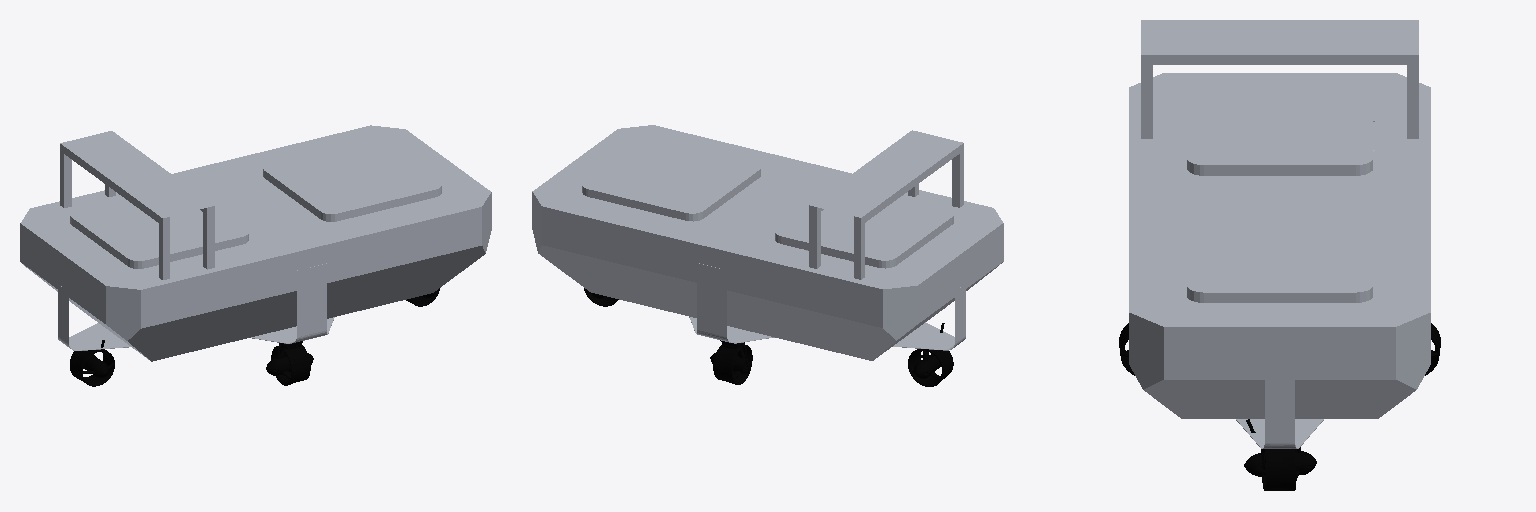
URDF robot description (hu501urdf):
<?xml version="1.0" encoding="utf-8"?>
<!-- This URDF was automatically created by SolidWorks to URDF Exporter! Originally created by Stephen Brawner (brawner@gmail.com) 
     Commit Version: 1.6.0-4-g7f85cfe  Build Version: 1.6.7995.38578
     For more information, please see http://wiki.ros.org/sw_urdf_exporter -->
<robot
  name="hu501urdf">
  <link
    name="base_link">
    <inertial>
      <origin
        xyz="0 0 -0.16302"
        rpy="0 0 0" />
      <mass
        value="22.584" />
      <inertia
        ixx="0.568866"
        ixy="-3.39E-06"
        ixz="-0.0625"
        iyy="1.81792"
        iyz="-5.51E-06"
        izz="2.07173" />
    </inertial>
    <visual>
      <origin
        xyz="-0.29592 -1.03178 -0.05518"
        rpy="0 0 3.14159" />
      <geometry>
        <mesh
          filename="package://hu501urdf/meshes/base_link.STL" />
      </geometry>
      <material
        name="hu501_hull">
        <color
          rgba="0.72 0.74 0.78 1" />
      </material>
    </visual>
    <collision>
      <origin
        xyz="-0.29592 -1.03178 -0.05518"
        rpy="0 0 3.14159" />
      <geometry>
        <mesh
          filename="package://hu501urdf/meshes/base_link.STL" />
      </geometry>
    </collision>
  </link>
  <link
    name="thruster1_Link">
    <inertial>
      <origin
        xyz="-1.3592E-07 0.0053084 -0.028391"
        rpy="0 0 0" />
      <mass
        value="0.20168" />
      <inertia
        ixx="0.00020552"
        ixy="-3.7292E-10"
        ixz="-8.5462E-10"
        iyy="0.00015966"
        iyz="-7.6597E-06"
        izz="0.00025129" />
    </inertial>
    <visual>
      <origin
        xyz="0 0 0"
        rpy="0 0 0" />
      <geometry>
        <mesh
          filename="package://hu501urdf/meshes/thruster1_Link.STL" />
      </geometry>
      <material
        name="hu501_thruster_1">
        <color
          rgba="0.05 0.05 0.05 1" />
      </material>
    </visual>
    <collision>
      <origin
        xyz="0 0 0"
        rpy="0 0 0" />
      <geometry>
        <mesh
          filename="package://hu501urdf/meshes/thruster1_Link.STL" />
      </geometry>
    </collision>
  </link>
  <joint
    name="joint1_turuster1"
    type="continuous">
    <origin
      xyz="-0.01 0.23 -0.2597"
      rpy="1.5708 0 1.570793" />
    <parent
      link="base_link" />
    <child
      link="thruster1_Link" />
    <axis
      xyz="0 0 1" />
    <dynamics
      damping="0.01"
      friction="0.0" />
    <limit
      effort="40"
      velocity="15" />
  </joint>
  <link
    name="thruster2_Link">
    <inertial>
      <origin
        xyz="-1.3745E-07 0.0051293 -0.030269"
        rpy="0 0 0" />
      <mass
        value="0.20953" />
      <inertia
        ixx="0.00020658"
        ixy="-4.2617E-10"
        ixz="-8.5048E-10"
        iyy="0.00016074"
        iyz="-7.6696E-06"
        izz="0.00025296" />
    </inertial>
    <visual>
      <origin
        xyz="0 0 0"
        rpy="0 0 0" />
      <geometry>
        <mesh
          filename="package://hu501urdf/meshes/thruster2_Link.STL" />
      </geometry>
      <material
        name="hu501_thruster_2">
        <color
          rgba="0.05 0.05 0.05 1" />
      </material>
    </visual>
    <collision>
      <origin
        xyz="0 0 0"
        rpy="0 0 0" />
      <geometry>
        <mesh
          filename="package://hu501urdf/meshes/thruster2_Link.STL" />
      </geometry>
    </collision>
  </link>
  <joint
    name="joint2_thruster2"
    type="continuous">
    <origin
      xyz="-0.01 -0.23 -0.2597"
      rpy="1.5708 0 1.570793" />
    <parent
      link="base_link" />
    <child
      link="thruster2_Link" />
    <axis
      xyz="0 0 1" />
    <dynamics
      damping="0.01"
      friction="0.0" />
    <limit
      effort="40"
      velocity="15" />
  </joint>
  <link
    name="thruster3_Link">
    <inertial>
      <origin
        xyz="9.3955E-06 -0.0051236 0.030236"
        rpy="0 0 0" />
      <mass
        value="0.20976" />
      <inertia
        ixx="0.00020659"
        ixy="2.2386E-10"
        ixz="8.5055E-10"
        iyy="0.00016074"
        iyz="-7.6692E-06"
        izz="0.00025296" />
    </inertial>
    <visual>
      <origin
        xyz="0 0 0"
        rpy="0 0 0" />
      <geometry>
        <mesh
          filename="package://hu501urdf/meshes/thruster3_Link.STL" />
      </geometry>
      <material
        name="hu501_thruster_3">
        <color
          rgba="0.05 0.05 0.05 1" />
      </material>
    </visual>
    <collision>
      <origin
        xyz="0 0 0"
        rpy="0 0 0" />
      <geometry>
        <mesh
          filename="package://hu501urdf/meshes/thruster3_Link.STL" />
      </geometry>
    </collision>
  </link>
  <joint
    name="joint3_thruster3"
    type="continuous">
    <origin
      xyz="0.44 -0.02998 -0.25915"
      rpy="-1.5697 -0.046487 0.098693" />
    <parent
      link="base_link" />
    <child
      link="thruster3_Link" />
    <axis
      xyz="0 0 -1" />
    <dynamics
      damping="0.01"
      friction="0.0" />
    <limit
      effort="40"
      velocity="15" />
  </joint>
  <link
    name="thruster4_Link">
    <inertial>
      <origin
        xyz="-1.3454E-07 -0.0051178 0.030204"
        rpy="0 0 0" />
      <mass
        value="0.21" />
      <inertia
        ixx="0.00020659"
        ixy="5.5639E-10"
        ixz="8.7177E-10"
        iyy="0.00016075"
        iyz="-7.6696E-06"
        izz="0.00025296" />
    </inertial>
    <visual>
      <origin
        xyz="0 0 0"
        rpy="0 0 0" />
      <geometry>
        <mesh
          filename="package://hu501urdf/meshes/thruster4_Link.STL" />
      </geometry>
      <material
        name="hu501_thruster_4">
        <color
          rgba="0.05 0.05 0.05 1" />
      </material>
    </visual>
    <collision>
      <origin
        xyz="0 0 0"
        rpy="0 0 0" />
      <geometry>
        <mesh
          filename="package://hu501urdf/meshes/thruster4_Link.STL" />
      </geometry>
    </collision>
  </link>
  <joint
    name="joint4_thruster4"
    type="continuous">
    <origin
      xyz="-0.44 -0.02778 -0.26142"
      rpy="-1.5596 -0.026539 0.012393" />
    <parent
      link="base_link" />
    <child
      link="thruster4_Link" />
    <axis
      xyz="0 0 -1" />
    <dynamics
      damping="0.01"
      friction="0.0" />
    <limit
      effort="40"
      velocity="15" />
  </joint>
  <!-- ================= VRX 水面物理 ================= -->
  <!-- 浮力：两根虚拟浮筒近似船底（船体 1.04m x 0.52m，总质量约 23.4kg）
       每个插件 = 一根浮筒：总浮力 = 圆截面浸水面积 x hull_length x rho x g
       采样点放在船底 z=-0.2：平衡时每筒浸深约 6.9cm，即吃水约 7cm（实船标定值） -->
  <gazebo>
    <plugin filename="libSurface.so" name="vrx::Surface">
      <link_name>base_link</link_name>
      <hull_length>1.04</hull_length>
      <hull_radius>0.13</hull_radius>
      <fluid_level>0</fluid_level>
      <points>
        <point>0.4 0.13 -0.2</point>
        <point>0.0 0.13 -0.2</point>
        <point>-0.4 0.13 -0.2</point>
      </points>
      <wavefield>
        <topic>/vrx/wavefield/parameters</topic>
      </wavefield>
    </plugin>

    <plugin filename="libSurface.so" name="vrx::Surface">
      <link_name>base_link</link_name>
      <hull_length>1.04</hull_length>
      <hull_radius>0.13</hull_radius>
      <fluid_level>0</fluid_level>
      <points>
        <point>0.4 -0.13 -0.2</point>
        <point>0.0 -0.13 -0.2</point>
        <point>-0.4 -0.13 -0.2</point>
      </points>
      <wavefield>
        <topic>/vrx/wavefield/parameters</topic>
      </wavefield>
    </plugin>

    <!-- 水动力阻尼（初值按 23kg 小船相对 WAM-V 缩小，需后续微调） -->
    <plugin filename="libSimpleHydrodynamics.so" name="vrx::SimpleHydrodynamics">
      <link_name>base_link</link_name>
      <xDotU>0.0</xDotU>
      <yDotV>0.0</yDotV>
      <nDotR>0.0</nDotR>
      <xU>10.0</xU>
      <xUU>15.0</xUU>
      <yV>10.0</yV>
      <yVV>10.0</yVV>
      <zW>50.0</zW>
      <kP>30.0</kP>
      <kPP>60.0</kPP>
      <mQ>30.0</mQ>
      <mQQ>60.0</mQQ>
      <nR>40.0</nR>
      <nRR>40.0</nRR>
    </plugin>
  </gazebo>

  <!-- ================= 推进器 ================= -->
  <!-- t1/t2：主推（前后），正推力 = +x 前进
       t3/t4：侧推（左右），正推力 = -y（向右舷），t3 在船尾 t4 在船首 -->
  <gazebo>
    <plugin filename="gz-sim-thruster-system" name="gz::sim::systems::Thruster">
      <joint_name>joint1_turuster1</joint_name>
      <thrust_coefficient>0.004422</thrust_coefficient>
      <fluid_density>1000</fluid_density>
      <propeller_diameter>0.06</propeller_diameter>
      <velocity_control>true</velocity_control>
      <max_thrust_cmd>40</max_thrust_cmd>
      <namespace>wamv</namespace>
      <topic>thrusters/t1/thrust</topic>
      <name>t1</name>
    </plugin>

    <plugin filename="gz-sim-thruster-system" name="gz::sim::systems::Thruster">
      <joint_name>joint2_thruster2</joint_name>
      <thrust_coefficient>0.004422</thrust_coefficient>
      <fluid_density>1000</fluid_density>
      <propeller_diameter>0.06</propeller_diameter>
      <velocity_control>true</velocity_control>
      <max_thrust_cmd>40</max_thrust_cmd>
      <namespace>wamv</namespace>
      <topic>thrusters/t2/thrust</topic>
      <name>t2</name>
    </plugin>

    <plugin filename="gz-sim-thruster-system" name="gz::sim::systems::Thruster">
      <joint_name>joint3_thruster3</joint_name>
      <thrust_coefficient>0.004422</thrust_coefficient>
      <fluid_density>1000</fluid_density>
      <propeller_diameter>0.06</propeller_diameter>
      <velocity_control>true</velocity_control>
      <max_thrust_cmd>40</max_thrust_cmd>
      <namespace>wamv</namespace>
      <topic>thrusters/t3/thrust</topic>
      <name>t3</name>
    </plugin>

    <plugin filename="gz-sim-thruster-system" name="gz::sim::systems::Thruster">
      <joint_name>joint4_thruster4</joint_name>
      <thrust_coefficient>0.004422</thrust_coefficient>
      <fluid_density>1000</fluid_density>
      <propeller_diameter>0.06</propeller_diameter>
      <velocity_control>true</velocity_control>
      <max_thrust_cmd>40</max_thrust_cmd>
      <namespace>wamv</namespace>
      <topic>thrusters/t4/thrust</topic>
      <name>t4</name>
    </plugin>
  </gazebo>

  <!-- ================= 位置/航向真值 ================= -->
  <gazebo>
    <plugin filename="gz-sim-odometry-publisher-system"
            name="gz::sim::systems::OdometryPublisher">
      <dimensions>3</dimensions>
      <odom_publish_frequency>10.0</odom_publish_frequency>
      <odom_frame>map</odom_frame>
      <robot_base_frame>base_link</robot_base_frame>
    </plugin>
  </gazebo>

  <!-- ================= 位姿/关节状态发布 ================= -->
  <gazebo>
    <plugin filename="gz-sim-pose-publisher-system"
            name="gz::sim::systems::PosePublisher">
      <publish_link_pose>true</publish_link_pose>
      <publish_sensor_pose>true</publish_sensor_pose>
      <publish_collision_pose>false</publish_collision_pose>
      <publish_visual_pose>false</publish_visual_pose>
      <publish_nested_model_pose>false</publish_nested_model_pose>
      <publish_model_pose>true</publish_model_pose>
      <use_pose_vector_msg>true</use_pose_vector_msg>
      <static_publisher>false</static_publisher>
      <static_update_frequency>1</static_update_frequency>
    </plugin>

    <plugin filename="gz-sim-joint-state-publisher-system"
            name="gz::sim::systems::JointStatePublisher">
    </plugin>
  </gazebo>

  <!-- ================= 材质 ================= -->
  <!-- 船体（含盖子）：铝合金（金属灰，高金属度低粗糙度） -->
  <gazebo reference="base_link">
    <visual>
      <material>
        <diffuse>0.72 0.74 0.78 1</diffuse>
        <specular>0.9 0.9 0.9 1</specular>
        <pbr>
          <metal>
            <metalness>0.9</metalness>
            <roughness>0.3</roughness>
          </metal>
        </pbr>
      </material>
    </visual>
  </gazebo>

  <!-- 电机：黑色塑料（哑光，无金属度） -->
  <gazebo reference="thruster1_Link">
    <visual>
      <material>
        <diffuse>0.04 0.04 0.04 1</diffuse>
        <pbr>
          <metal>
            <metalness>0.0</metalness>
            <roughness>0.85</roughness>
          </metal>
        </pbr>
      </material>
    </visual>
  </gazebo>
  <gazebo reference="thruster2_Link">
    <visual>
      <material>
        <diffuse>0.04 0.04 0.04 1</diffuse>
        <pbr>
          <metal>
            <metalness>0.0</metalness>
            <roughness>0.85</roughness>
          </metal>
        </pbr>
      </material>
    </visual>
  </gazebo>
  <gazebo reference="thruster3_Link">
    <visual>
      <material>
        <diffuse>0.04 0.04 0.04 1</diffuse>
        <pbr>
          <metal>
            <metalness>0.0</metalness>
            <roughness>0.85</roughness>
          </metal>
        </pbr>
      </material>
    </visual>
  </gazebo>
  <gazebo reference="thruster4_Link">
    <visual>
      <material>
        <diffuse>0.04 0.04 0.04 1</diffuse>
        <pbr>
          <metal>
            <metalness>0.0</metalness>
            <roughness>0.85</roughness>
          </metal>
        </pbr>
      </material>
    </visual>
  </gazebo>

</robot>

--- What the picture shows (computed from the rendered views, not written in the file) ---
The picture shows the robot from 3 angles, left to right: view 1: azimuth 30°, elevation 25°; view 2: azimuth 150°, elevation 25°; view 3: azimuth 270°, elevation 25°; orthographic projection.
Model hu501urdf with 5 links and 4 joints (4 continuous), rooted at base_link, posed every joint at zero.
Visible links, largest first — view 1: base_link, thruster2_Link, thruster4_Link; view 2: base_link, thruster1_Link, thruster4_Link; view 3: base_link, thruster3_Link.
Link boxes in pixels (<box>): base_link: <box>20,125,491,361</box>; thruster2_Link: <box>266,341,313,385</box>; thruster4_Link: <box>70,340,114,386</box>; base_link: <box>532,125,1003,360</box>; thruster1_Link: <box>710,340,752,384</box>; thruster4_Link: <box>908,323,953,386</box>; base_link: <box>1129,20,1430,448</box>; thruster3_Link: <box>1244,419,1316,490</box>.
Size in the robot's own frame: 1.04 by 0.5567 by 0.5097 metres.
Meshes: 5 distinct files referenced, 5 mesh visuals loaded (5 binary STL).
